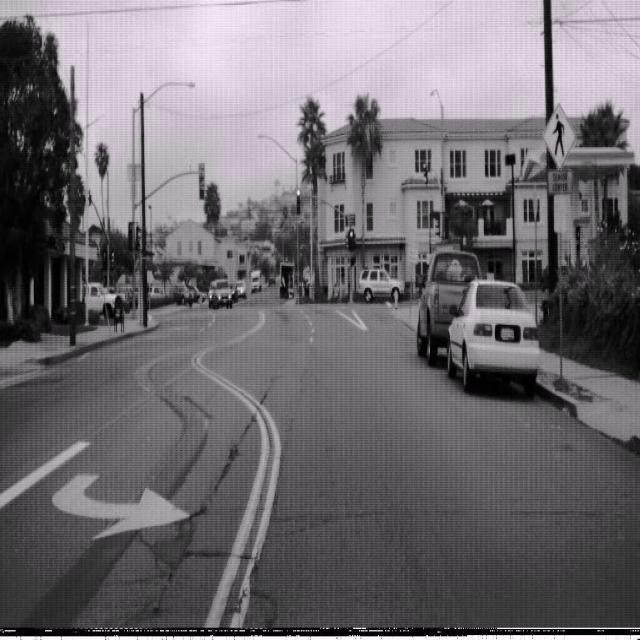pedestrianCrossing: (542, 100, 577, 170)
